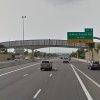Bridge: (5, 28, 94, 57)
